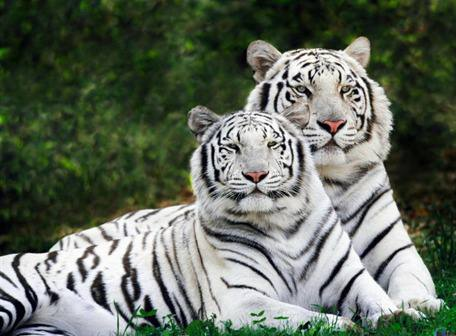Tigrew: (20, 102, 390, 324), (239, 29, 410, 174)
